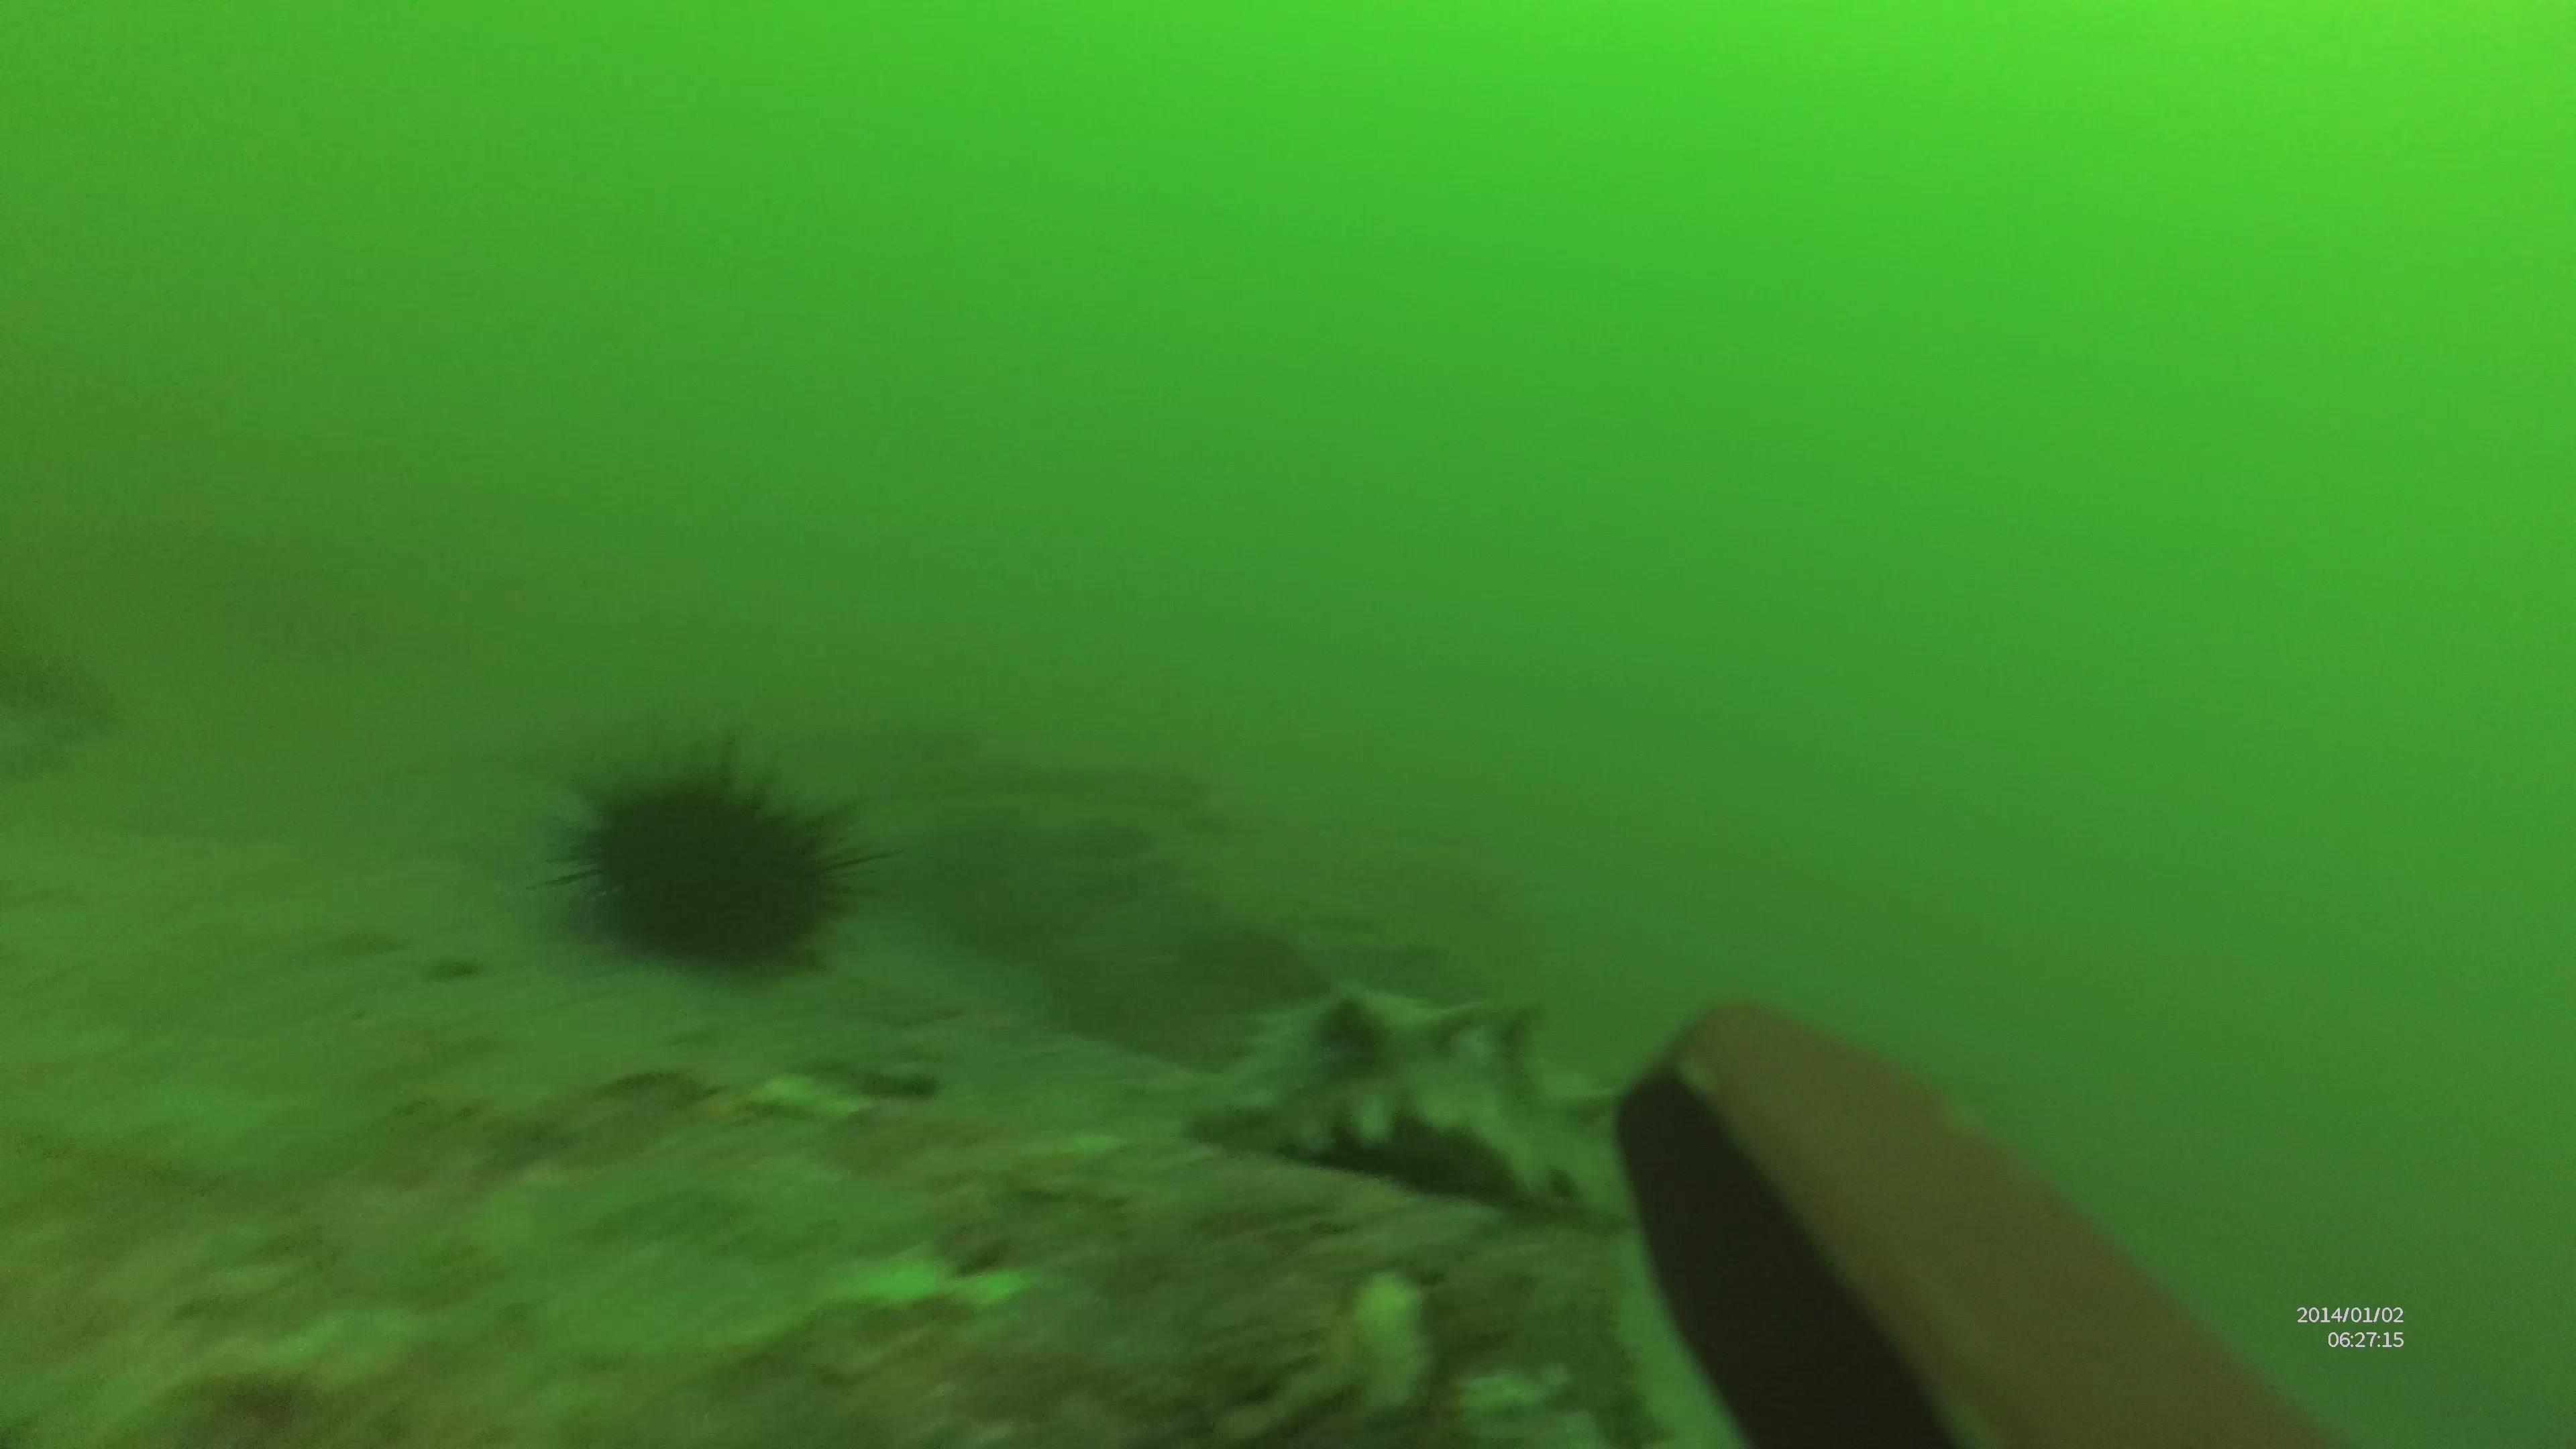echinus: (547, 734, 899, 982)
holothurian: (1184, 973, 1652, 1240)
